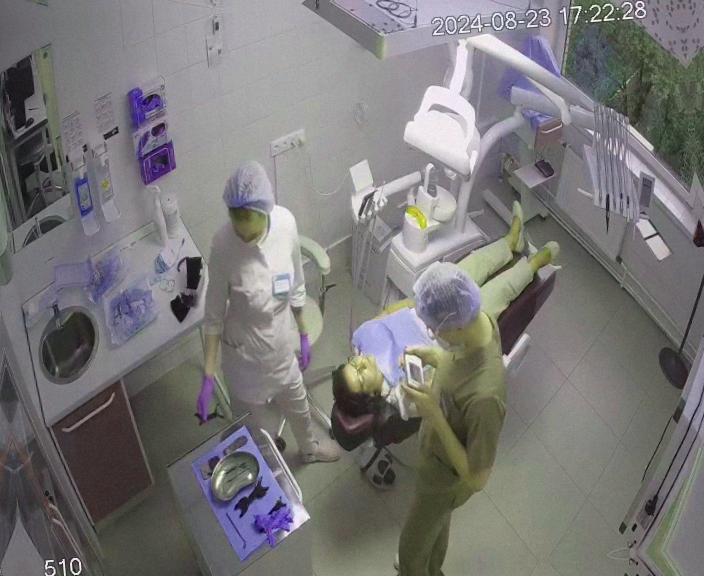Patient: (308, 196, 576, 452)
